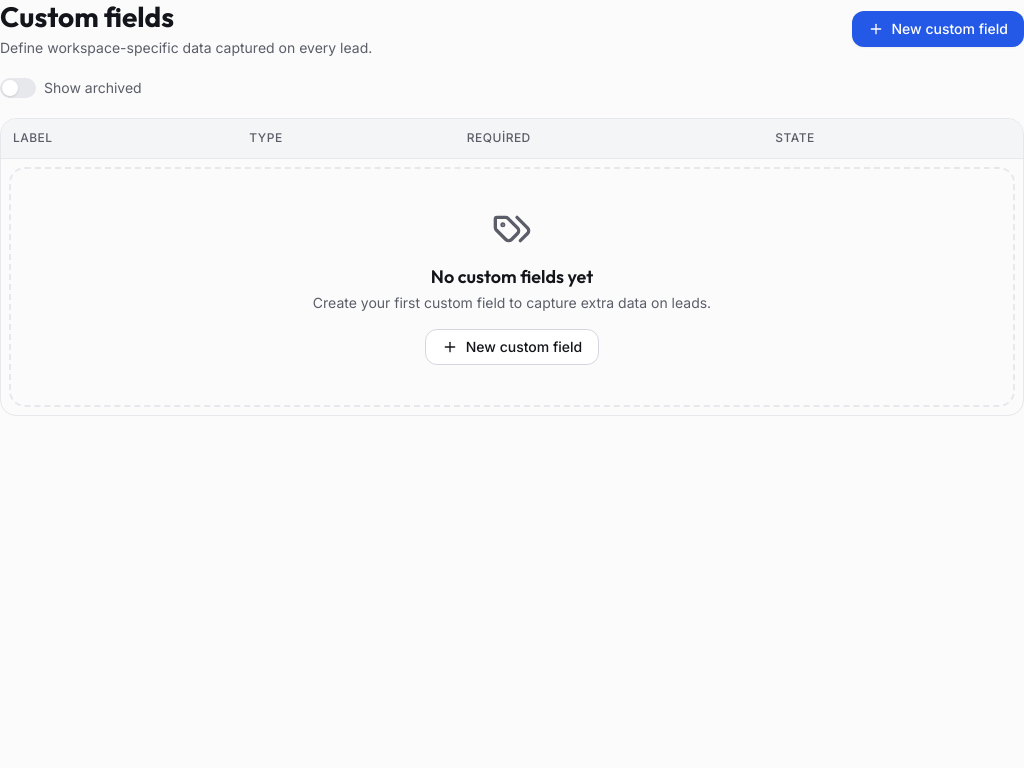
Test: CustomFieldsPage › opens the create dialog and validates an empty label
Click the 1st button "New custom field" at (938, 29), box [852, 11, 1023, 47]
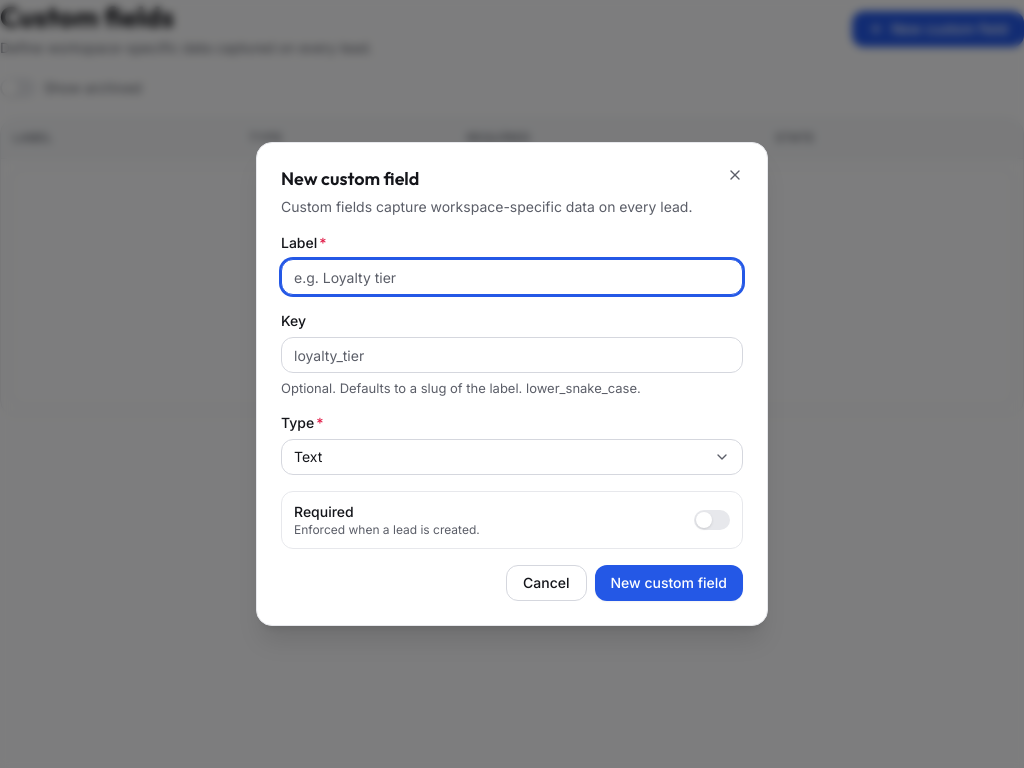
expect the heading "New custom field" is shown: met, box [281, 167, 419, 190]
Click the button "New custom field" at (669, 583), box [594, 565, 743, 601]
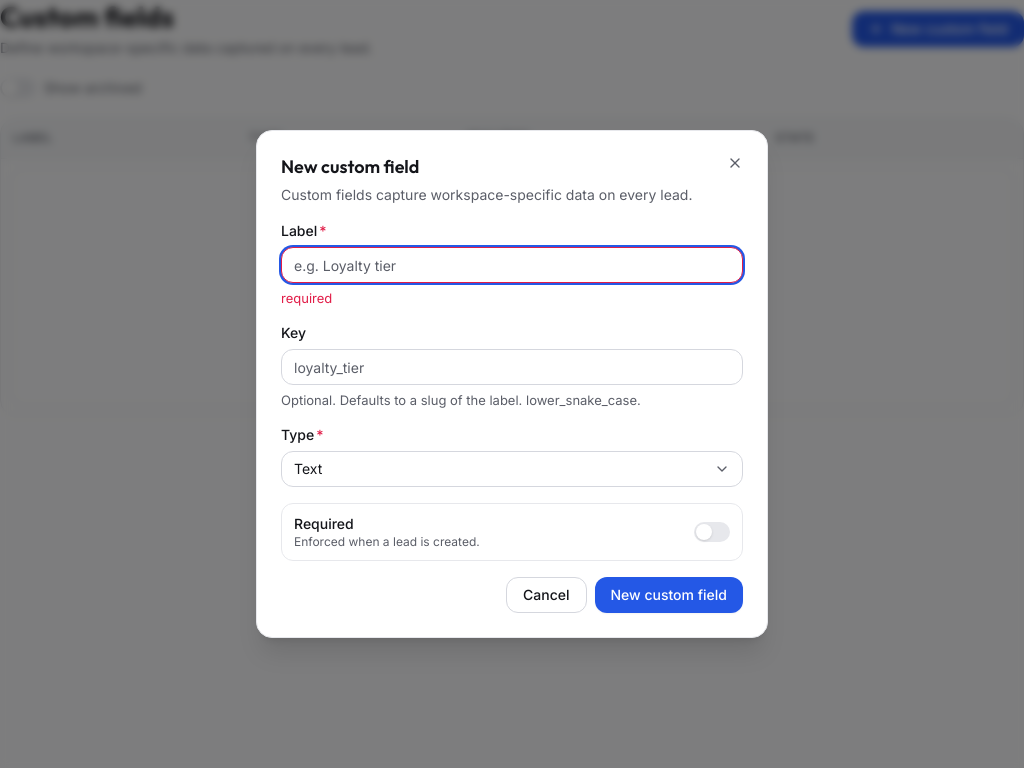
expect the message "required" is shown: met, box [281, 290, 332, 306]
